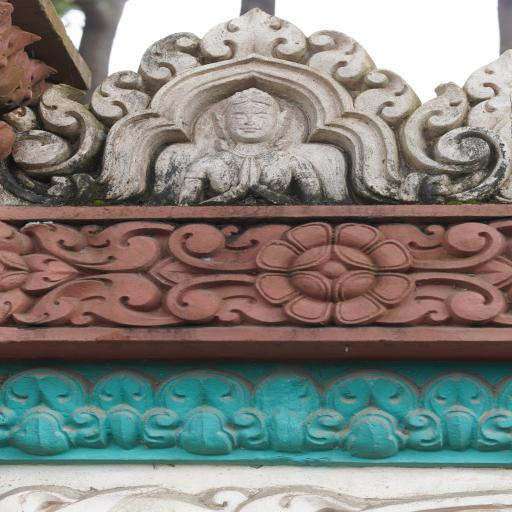hoa: (252, 223, 412, 324), (0, 223, 73, 322)
la: (100, 359, 296, 465), (288, 363, 465, 463), (404, 54, 512, 211), (0, 365, 126, 465), (1, 74, 102, 198), (26, 219, 166, 269), (38, 277, 188, 323), (198, 5, 304, 61), (169, 225, 285, 273), (413, 270, 511, 326), (420, 218, 510, 276), (165, 276, 253, 326), (136, 31, 209, 80), (356, 67, 425, 118), (311, 25, 366, 83), (89, 67, 150, 119)
than: (176, 82, 328, 206)
